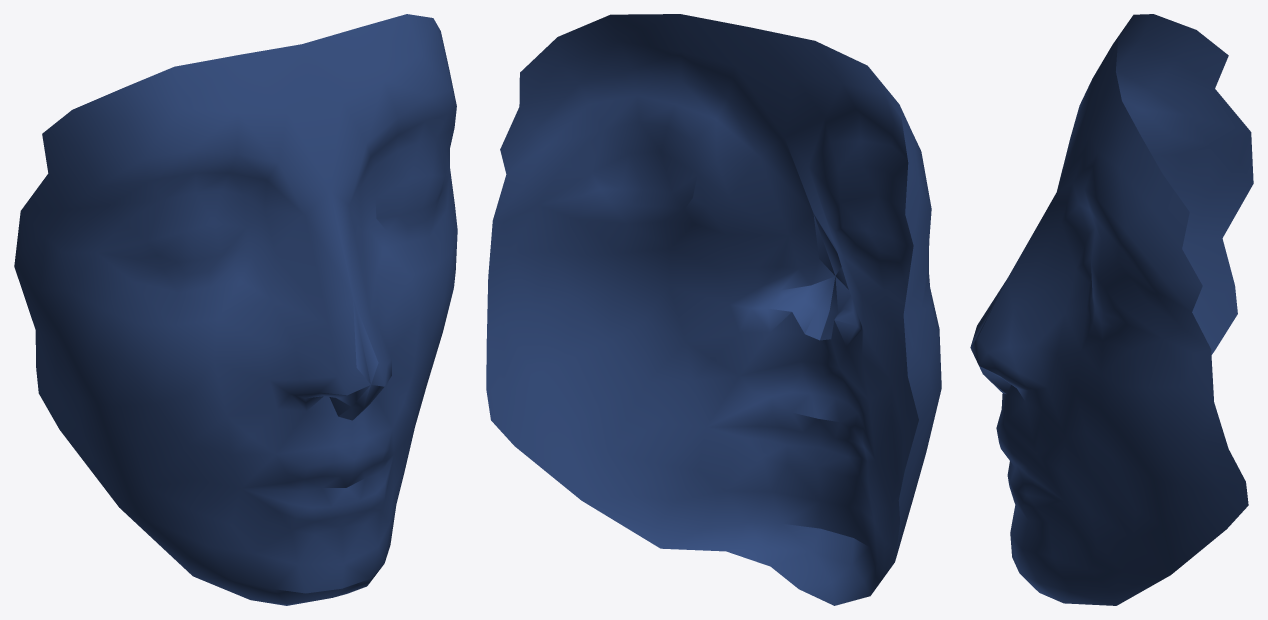
The model's file is Nefertiti_face.obj.
The picture shows the model from 3 angles, left to right: view 1: azimuth 30°, elevation 25°; view 2: azimuth 150°, elevation 25°; view 3: azimuth 270°, elevation 25°; orthographic projection. The views are drawn at different scales.
Parts seen in each view (by area): view 1: Mesh_FACES; view 2: Mesh_FACES; view 3: Mesh_FACES.
Boxes of the visible parts, x1=… form: Mesh_FACES: x1=14, y1=14, x2=457, y2=605; Mesh_FACES: x1=486, y1=14, x2=941, y2=605; Mesh_FACES: x1=970, y1=14, x2=1253, y2=605.
Size of the model in its own units: 3.9 by 4.86 by 2.38.
